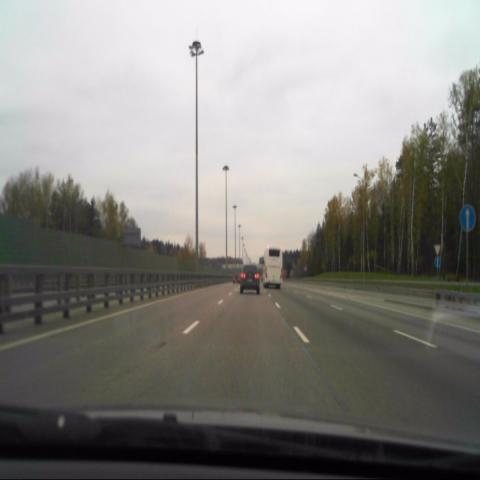4_1_1: (462, 206, 474, 231)
